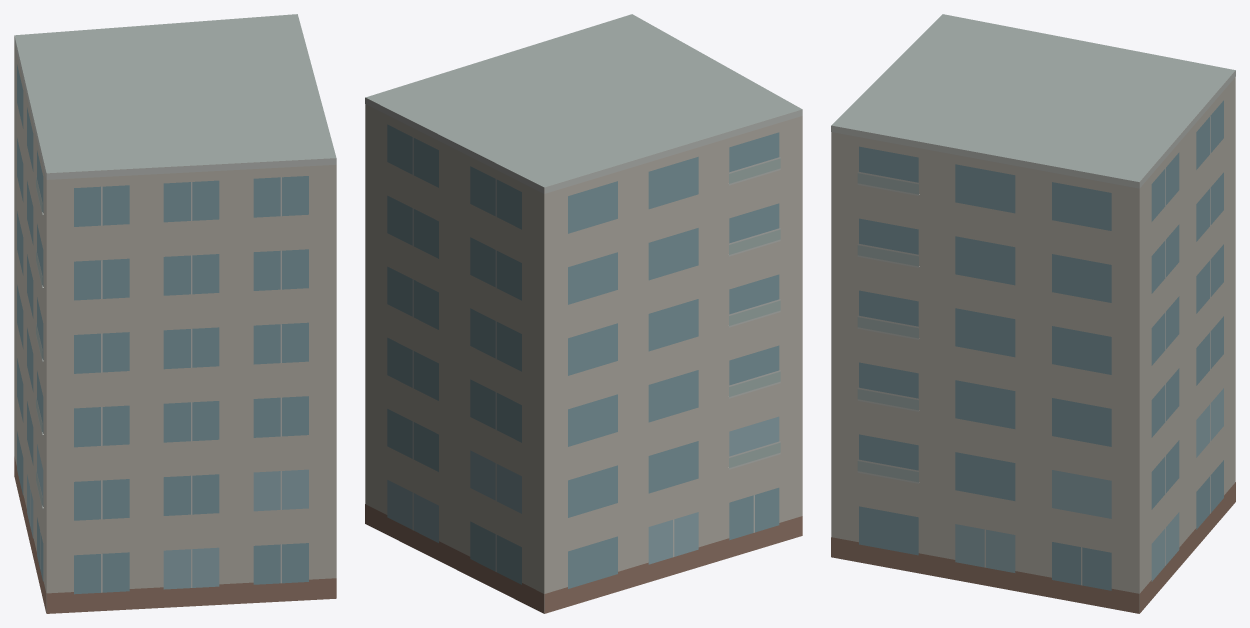
Rendered from survey-upis-32530728.glb.
3 views of the same model, side by side, from view 1: azimuth 30°, elevation 25°; view 2: azimuth 150°, elevation 25°; view 3: azimuth 270°, elevation 25° (orthographic). The views are drawn at different scales.
Parts seen in each view (by area): view 1: survey-upis-32530728.tmp; view 2: survey-upis-32530728.tmp; view 3: survey-upis-32530728.tmp.
Boxes of the visible parts, x1,y1,x2,y2 form: survey-upis-32530728.tmp: (14,14,336,613); survey-upis-32530728.tmp: (365,14,802,613); survey-upis-32530728.tmp: (831,14,1235,613).
Size of the model in its own units: 13.54 by 16.2 by 13.77.
